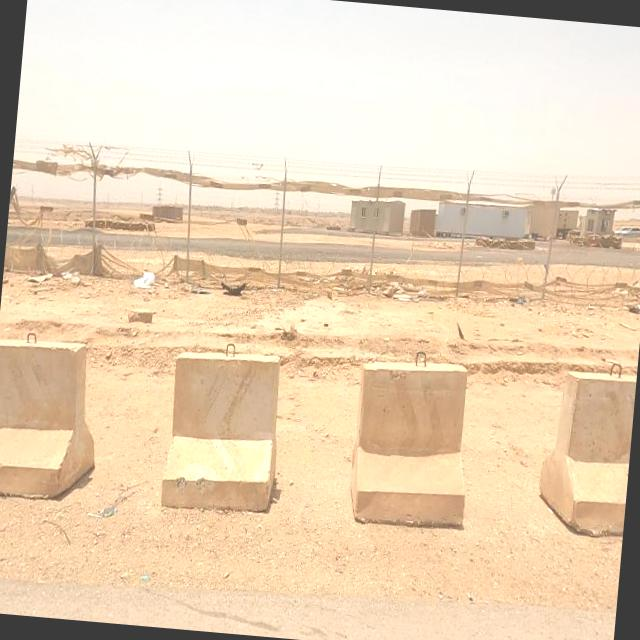debris: (98, 223, 188, 327), (360, 250, 449, 340), (187, 242, 268, 331), (37, 226, 102, 318), (487, 266, 544, 330)
